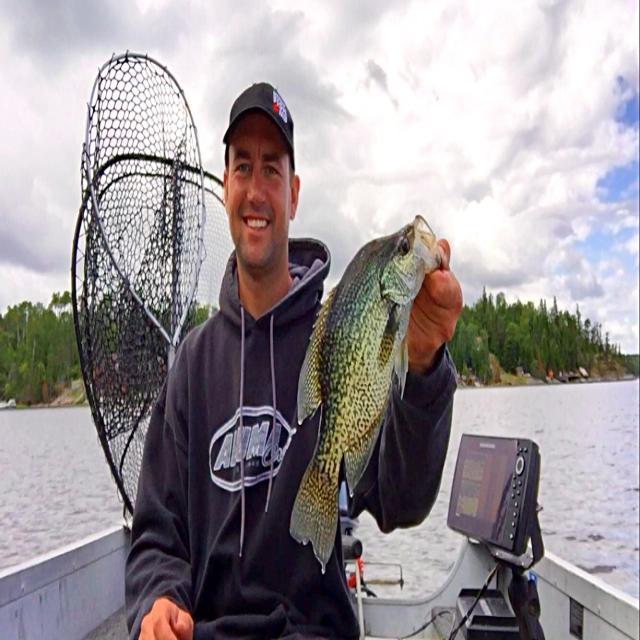Crappie - Black: (290, 216, 441, 569)
